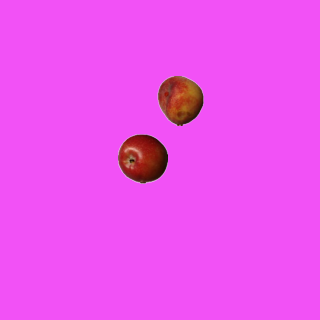Apple Braeburn: (117, 133, 167, 183)
Peach: (155, 75, 205, 125)
